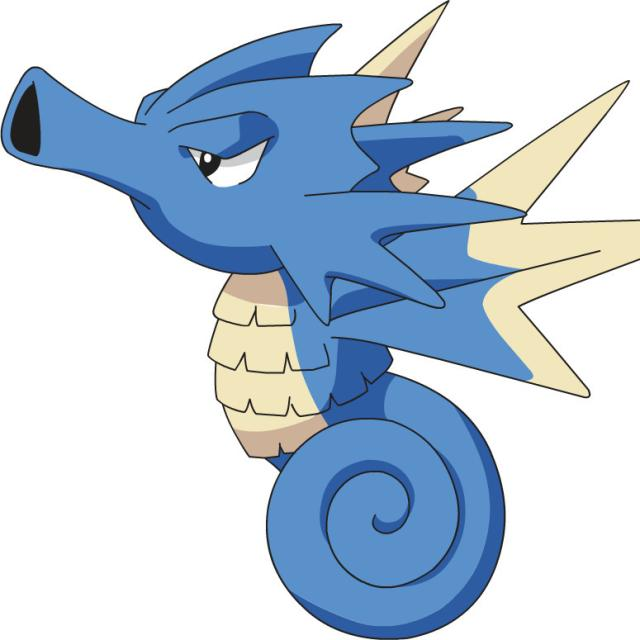Seadra: (0, 27, 546, 627)
